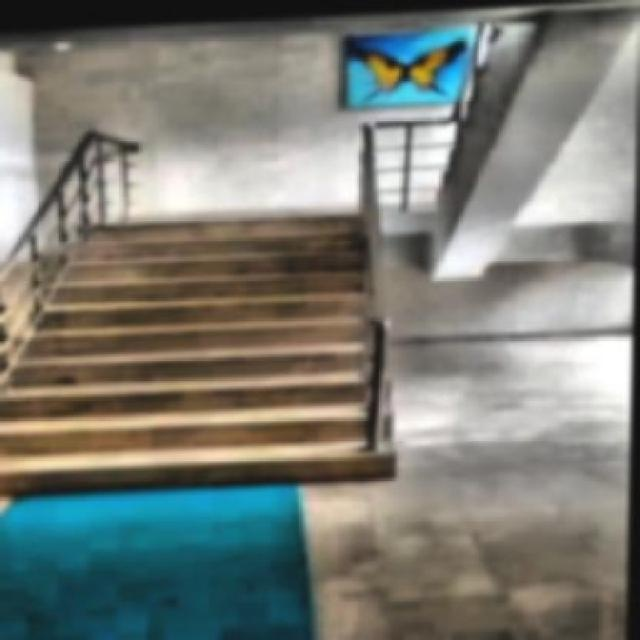stair: (2, 197, 403, 489)
